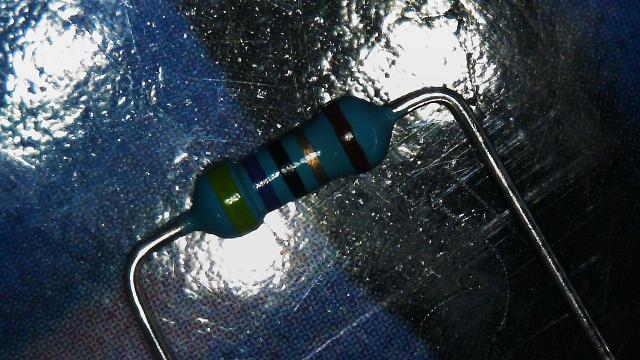black: (268, 139, 308, 198)
brown: (324, 102, 371, 172)
gold: (294, 130, 330, 185)
resistor: (164, 67, 423, 266)
violet: (242, 154, 280, 211)
yellow: (207, 163, 256, 232)
